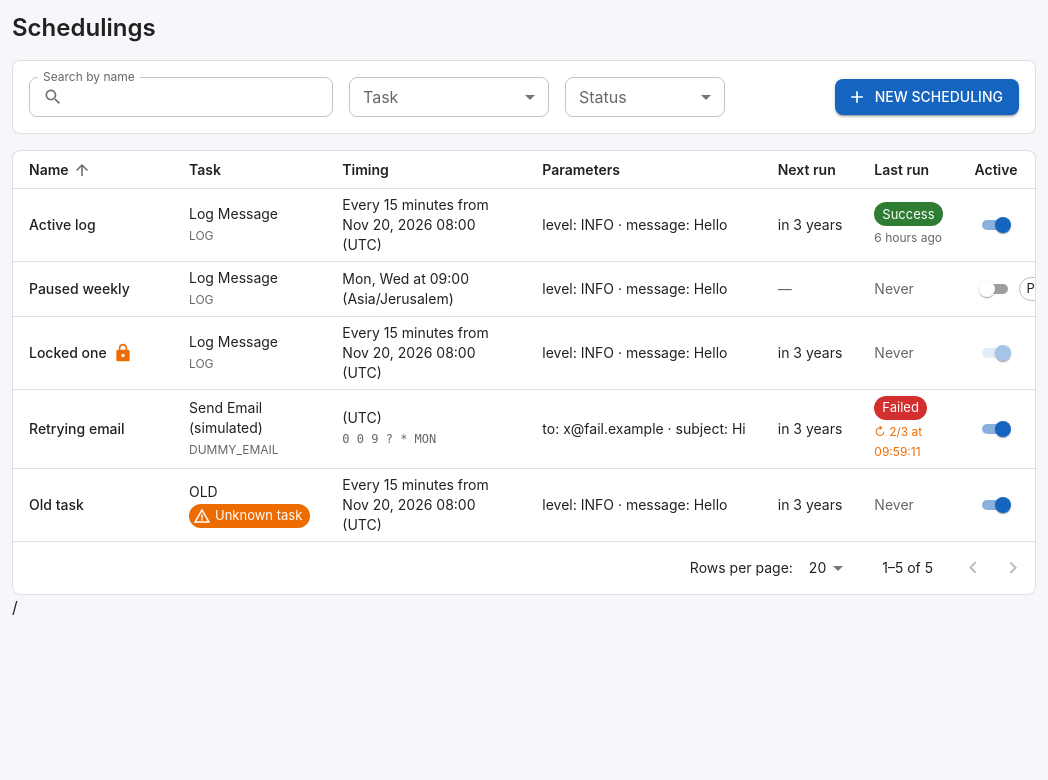
it: SchedulingsPage › reports action errors
Expected: the text "Active log" is shown, [29,215,96,235]
Click the switch named "Active: Active log" at x=1002, y=225, box [994,217,1010,233]
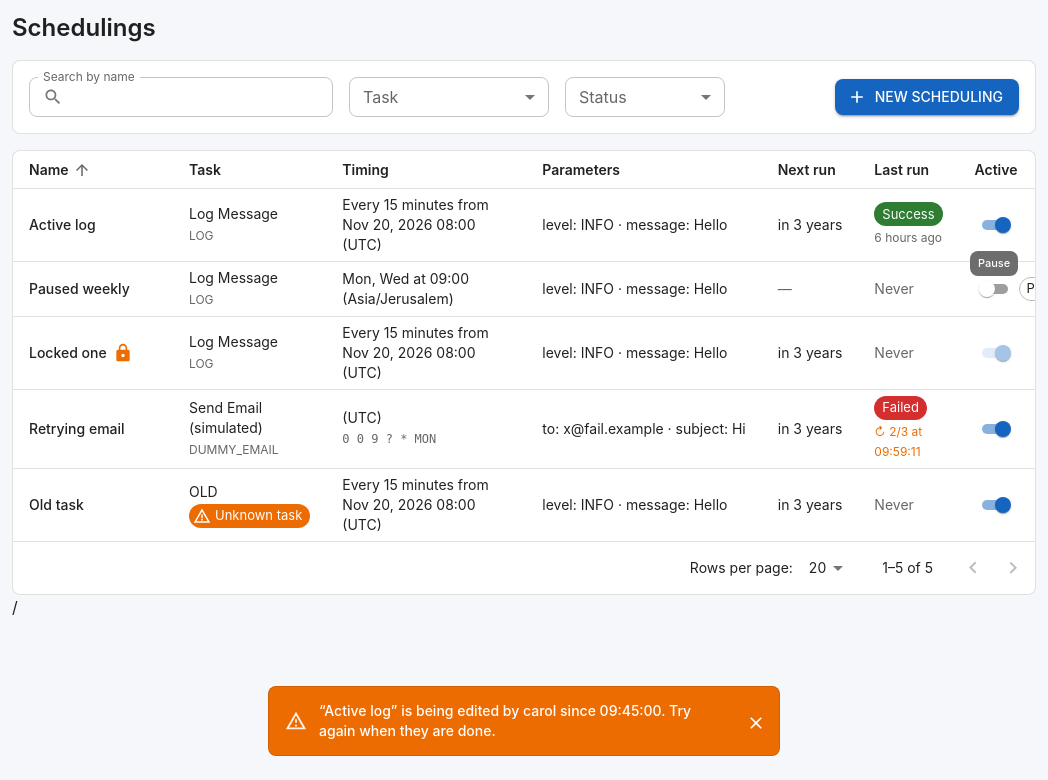
Expected: the text "is being edited by carol" is shown, [319,702,691,739]
